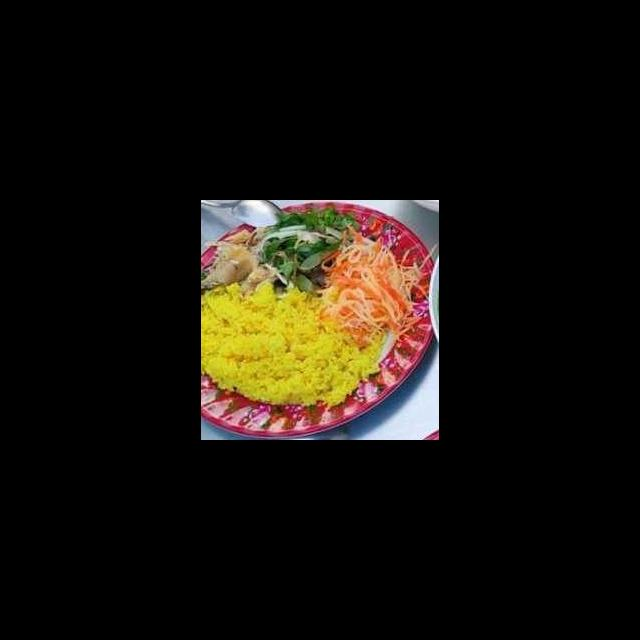com: (202, 281, 344, 408), (316, 327, 389, 413)
com ga: (203, 219, 432, 440)
rau ram: (254, 204, 363, 297)
thit ga: (202, 238, 261, 292)
